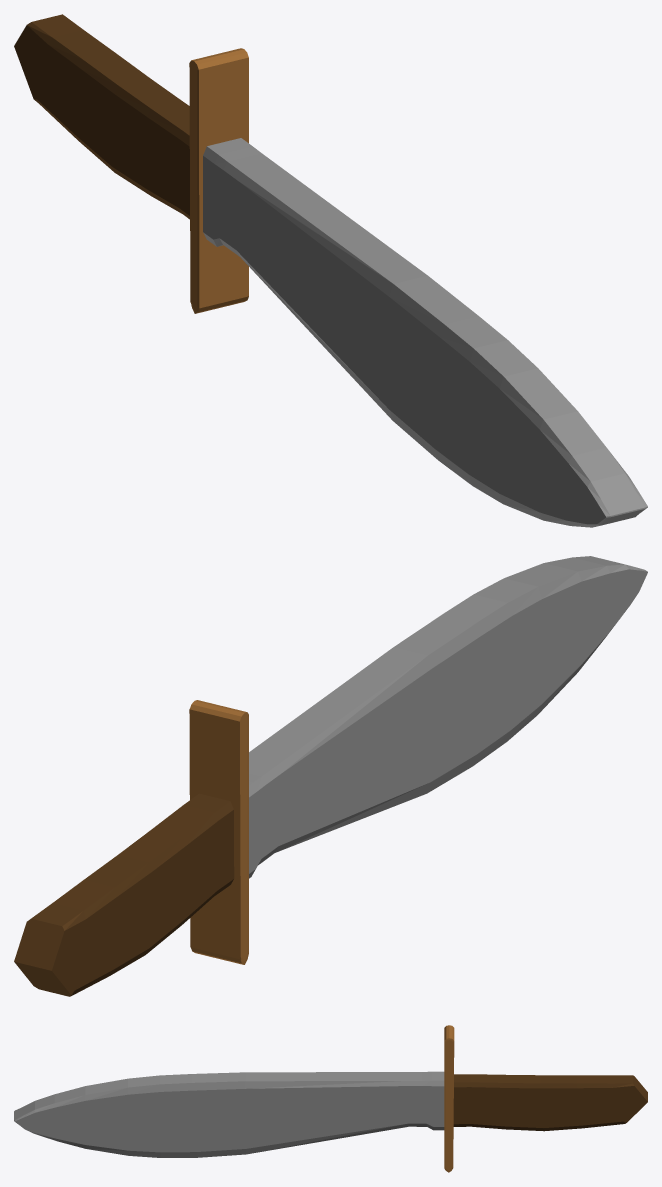
File: knife.fbx
The picture shows the model from 3 angles, top to bottom: view 1: azimuth 30°, elevation 25°; view 2: azimuth 150°, elevation 25°; view 3: azimuth 270°, elevation 25°; orthographic projection. The views are drawn at different scales.
Parts seen in each view (by area): view 1: Blade, Handle_Wood, object; view 2: Blade, Handle_Wood, object; view 3: Blade, Handle_Wood, object.
Boxes of the visible parts, <box> form: Blade: <box>203,138,647,527</box>; Handle_Wood: <box>14,14,189,219</box>; object: <box>189,48,248,313</box>; Blade: <box>249,556,647,878</box>; Handle_Wood: <box>14,793,234,996</box>; object: <box>189,700,248,964</box>; Blade: <box>14,1071,444,1157</box>; Handle_Wood: <box>453,1074,647,1131</box>; object: <box>444,1025,454,1172</box>.
Bounding box in the file's own units: 3.4 × 16.27 × 69.51.
